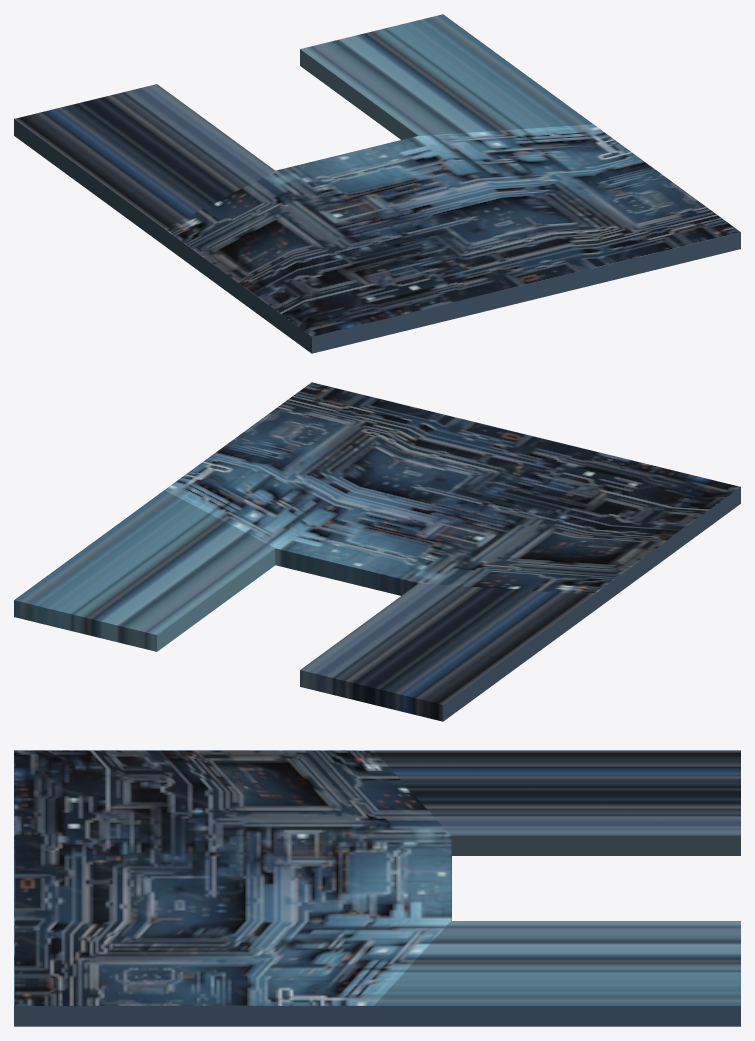
File: CatapultTail.gltf
3 views of the same model, one above another, from view 1: azimuth 30°, elevation 25°; view 2: azimuth 150°, elevation 25°; view 3: azimuth 270°, elevation 25° (orthographic). The views are drawn at different scales.
Visible parts, largest first — view 1: 平面.001; view 2: 平面.001; view 3: 平面.001.
Boxes of the visible parts, bbox=[...] form: 平面.001: bbox=[14, 14, 740, 353]; 平面.001: bbox=[14, 382, 740, 721]; 平面.001: bbox=[14, 750, 740, 1026].
Size of the model in its own units: 12.55 by 0.4699 by 15.09.
1 material, 1 textured.
